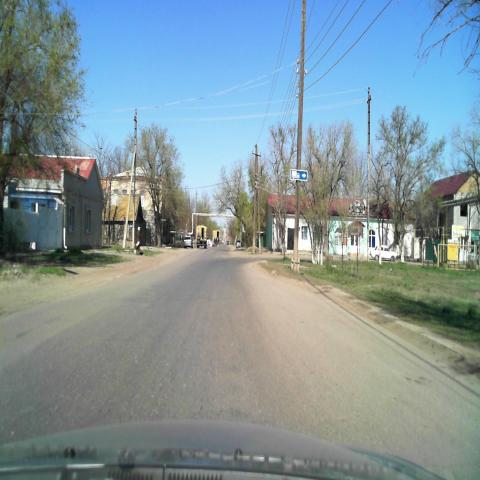6_15_2: (290, 169, 308, 182)
